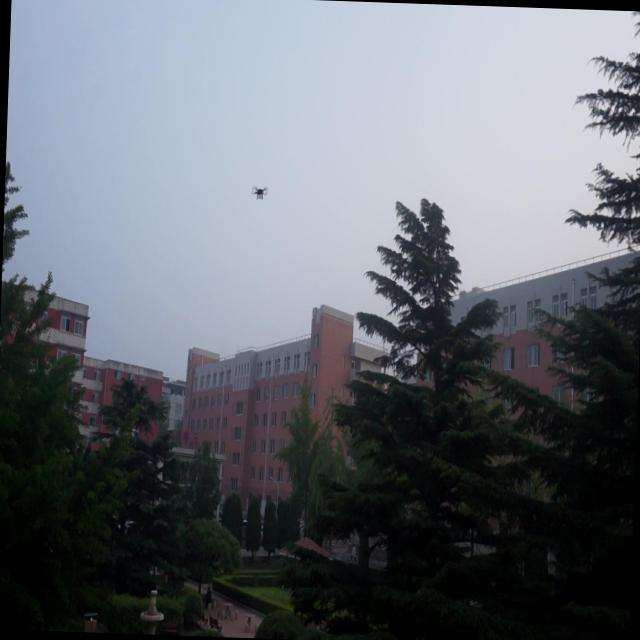drone: (248, 182, 268, 202)
